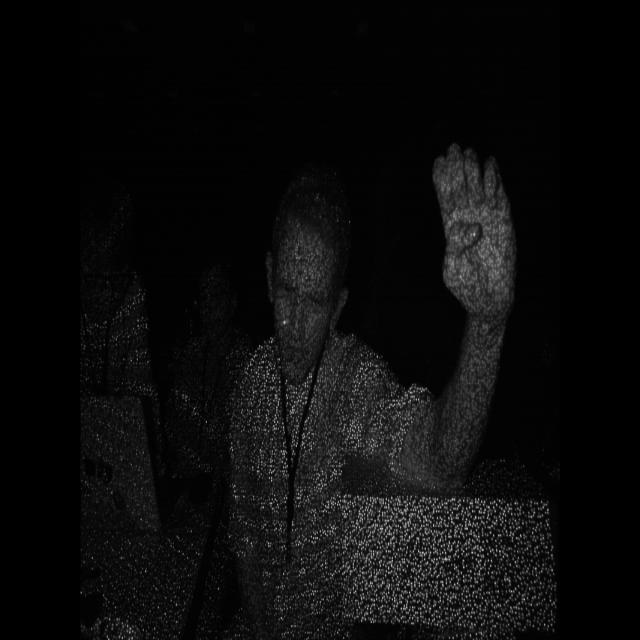E: (408, 113, 547, 334)
